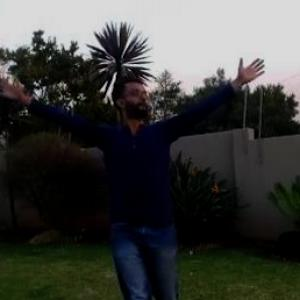takeoff: (1, 57, 262, 299)
